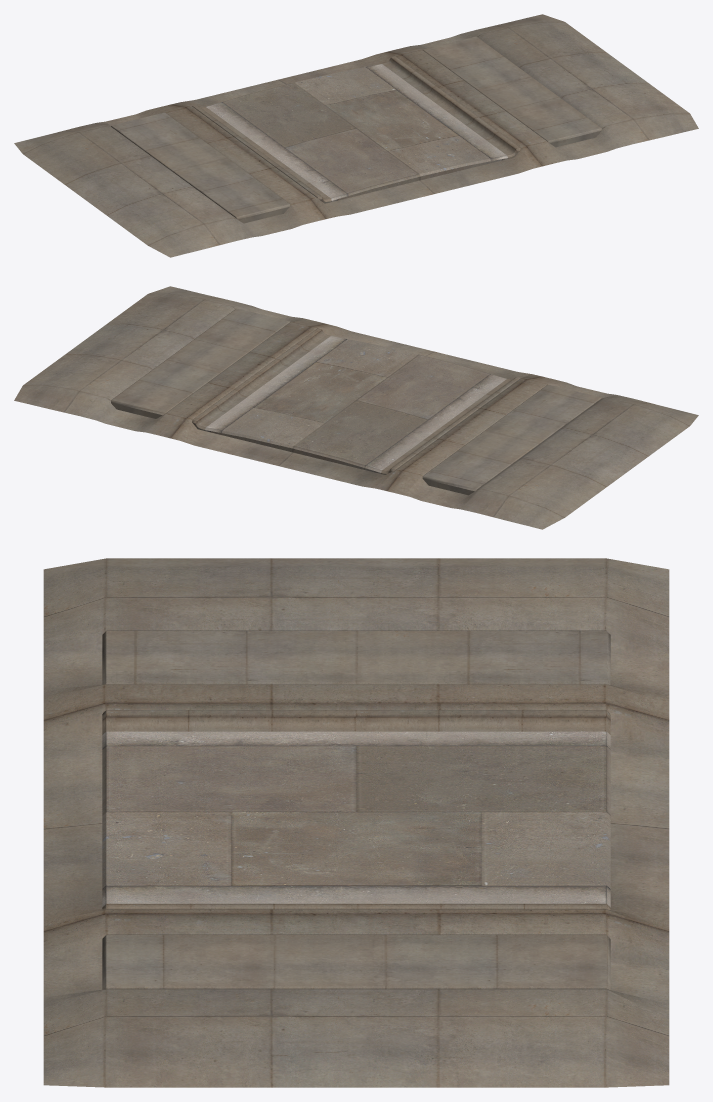
The model's file is sancStraight.FBX.
3 renders of one model, top to bottom at view 1: azimuth 30°, elevation 25°; view 2: azimuth 150°, elevation 25°; view 3: azimuth 270°, elevation 25°, orthographic. The views are drawn at different scales.
Visible parts, largest first — view 1: Plane006:3, Plane006:0, Plane006:1; view 2: Plane006:3, Plane006:0, Plane006:1; view 3: Plane006:3, Plane006:0, Plane006:1.
Boxes of the visible parts, x1,y1,x2,y2 form: Plane006:3: (14, 14, 698, 257); Plane006:0: (206, 64, 507, 201); Plane006:1: (111, 36, 601, 223); Plane006:3: (14, 286, 698, 529); Plane006:0: (205, 336, 506, 473); Plane006:1: (111, 308, 601, 495); Plane006:3: (43, 558, 669, 1087); Plane006:0: (102, 731, 610, 906); Plane006:1: (102, 630, 610, 989).
Size of the model in its own units: 1281 by 44.18 by 640.
